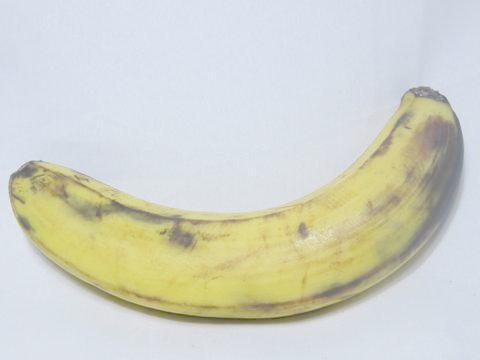ripe: (8, 91, 473, 327)
